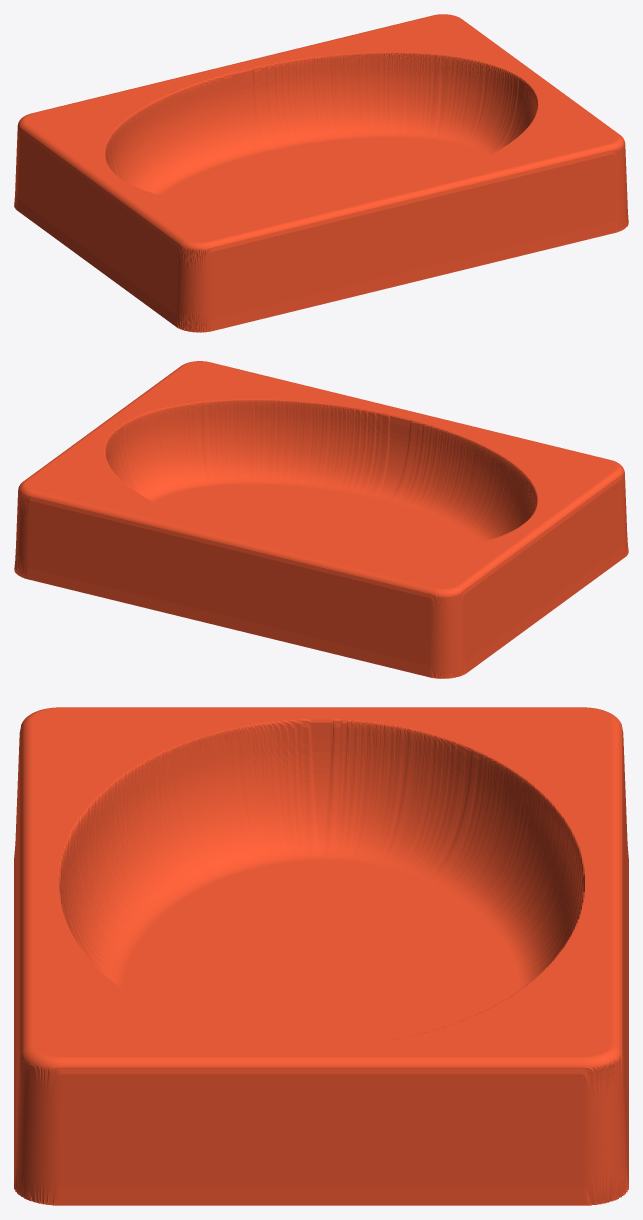
The model's file is mold.glb.
3 renders of one model, top to bottom at view 1: azimuth 30°, elevation 25°; view 2: azimuth 150°, elevation 25°; view 3: azimuth 270°, elevation 25°, orthographic. The views are drawn at different scales.
Parts seen in each view (by area): view 1: geometry_0; view 2: geometry_0; view 3: geometry_0.
Part boxes in pixels (x1,y1,x2,y2): geometry_0: (14,14,628,332); geometry_0: (14,361,628,678); geometry_0: (14,707,628,1205).
Bounding box in the file's own units: 0.1709 × 0.031 × 0.1222.
